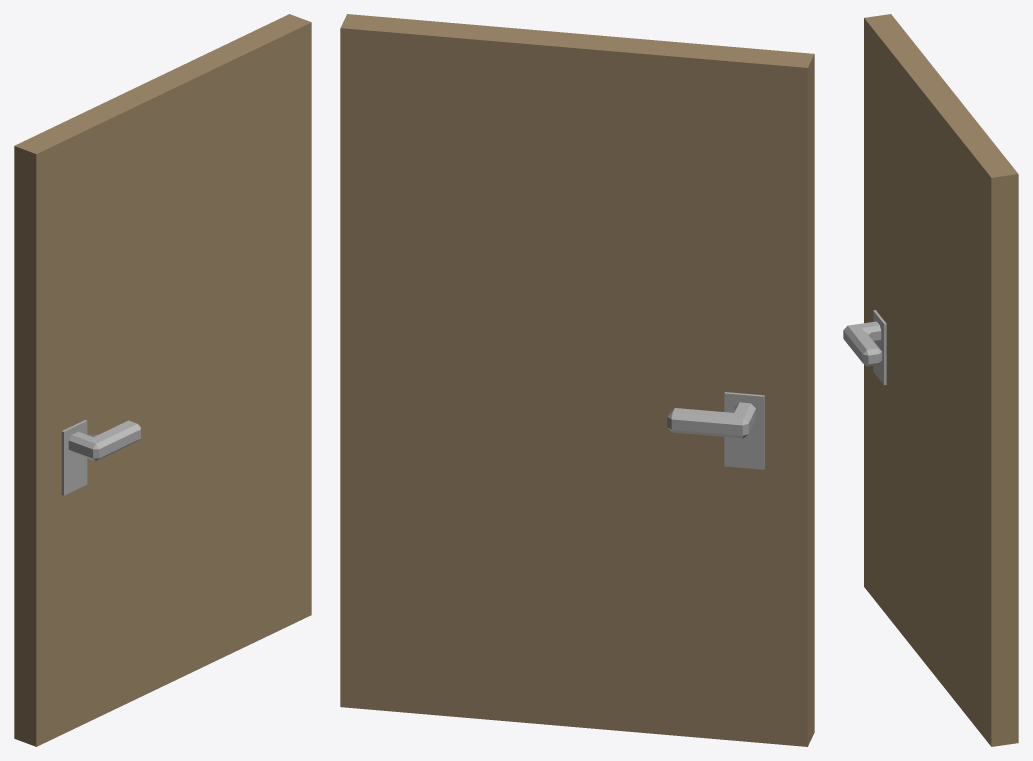
Rendered from PlayerHouseDoor.fbx.
3 views of the same model, side by side, from view 1: azimuth 30°, elevation 25°; view 2: azimuth 150°, elevation 25°; view 3: azimuth 270°, elevation 25° (orthographic). The views are drawn at different scales.
Parts seen in each view (by area): view 1: Cube.029; view 2: Cube.029; view 3: Cube.029.
Part boxes in pixels (left/top/right/bottom): Cube.029: left=14, top=14, right=311, bottom=746; Cube.029: left=340, top=14, right=814, bottom=746; Cube.029: left=843, top=14, right=1018, bottom=746.
Size of the model in its own units: 1.36 by 0.6133 by 2.2.
